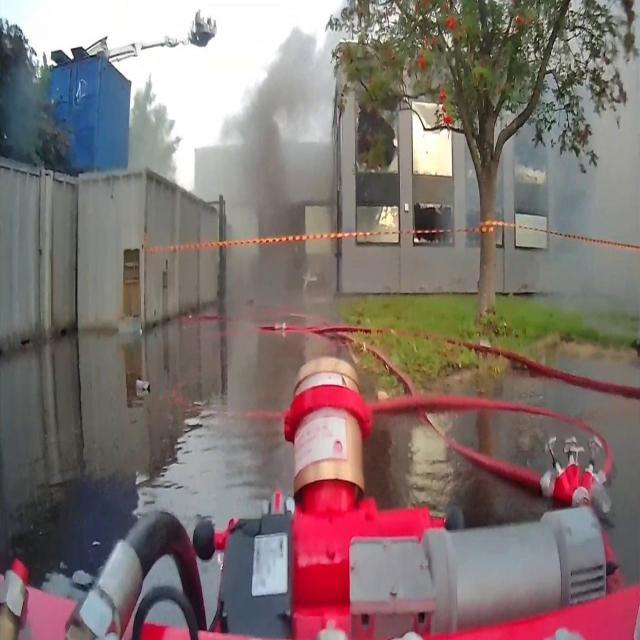Fire: (412, 101, 452, 176), (376, 206, 400, 230)
Smoke: (218, 0, 354, 297), (534, 0, 640, 337)
